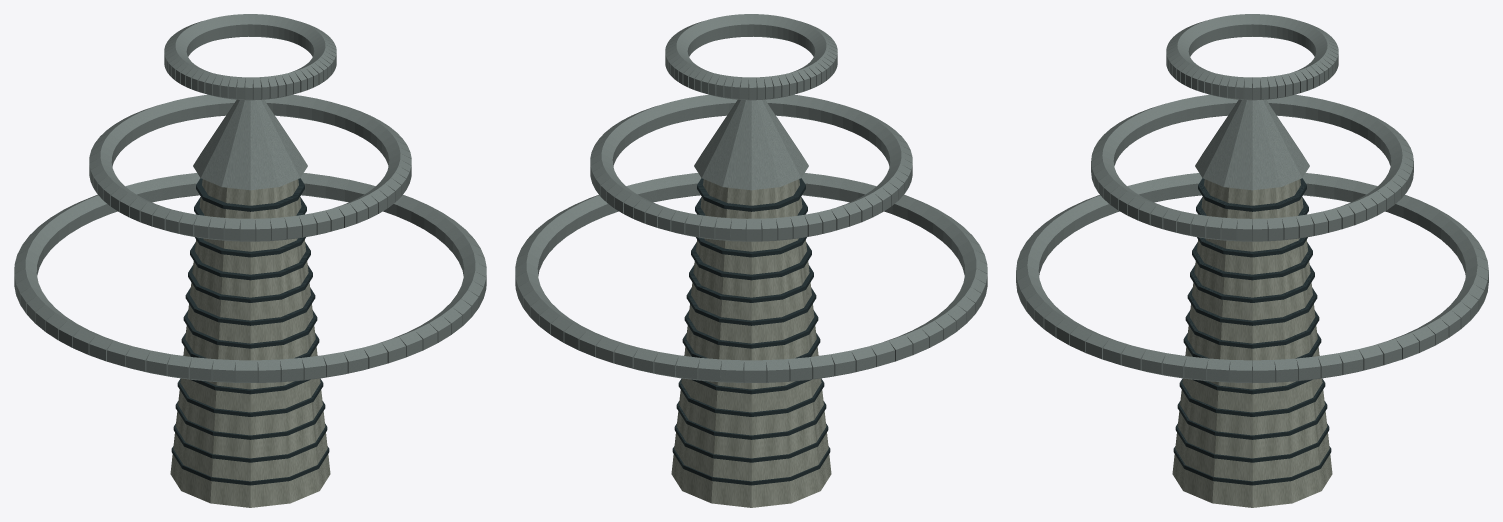
Rendered from weather_spire_01.fbx.
The picture shows the model from 3 angles, left to right: view 1: azimuth 30°, elevation 25°; view 2: azimuth 150°, elevation 25°; view 3: azimuth 270°, elevation 25°; orthographic projection.
Visible parts, largest first — view 1: weather_spire_01_LOD0; view 2: weather_spire_01_LOD0; view 3: weather_spire_01_LOD0.
Part boxes in pixels (x1,y1,x2,y2): weather_spire_01_LOD0: (14,14,486,507); weather_spire_01_LOD0: (515,14,987,507); weather_spire_01_LOD0: (1016,14,1488,507).
Size of what is drawn, in the model's own units: 1 by 1 by 1.
